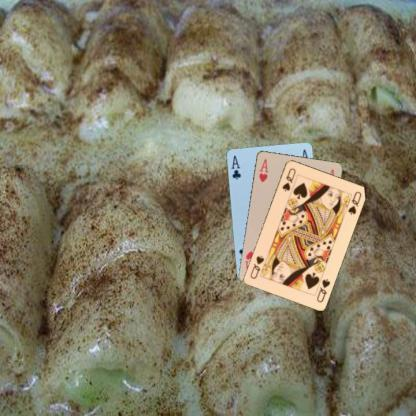Ac: (228, 153, 242, 180)
Ah: (256, 156, 269, 183)
Qs: (314, 276, 331, 304), (280, 166, 297, 192)
